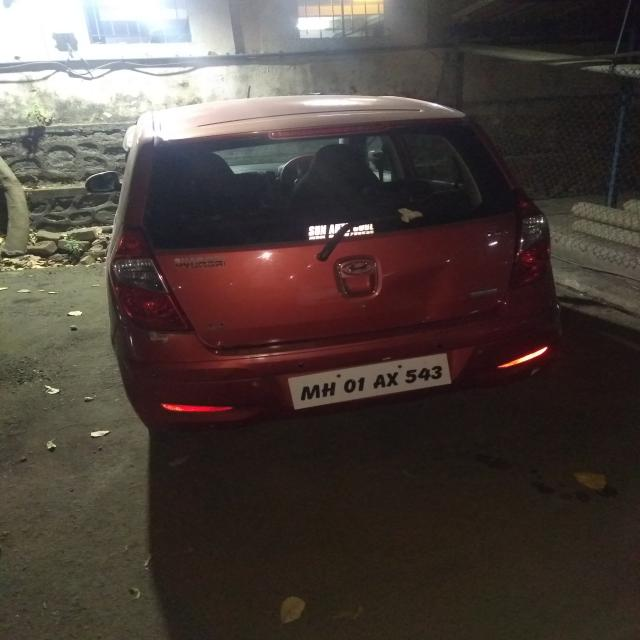Number-Plate: (295, 354, 448, 409)
